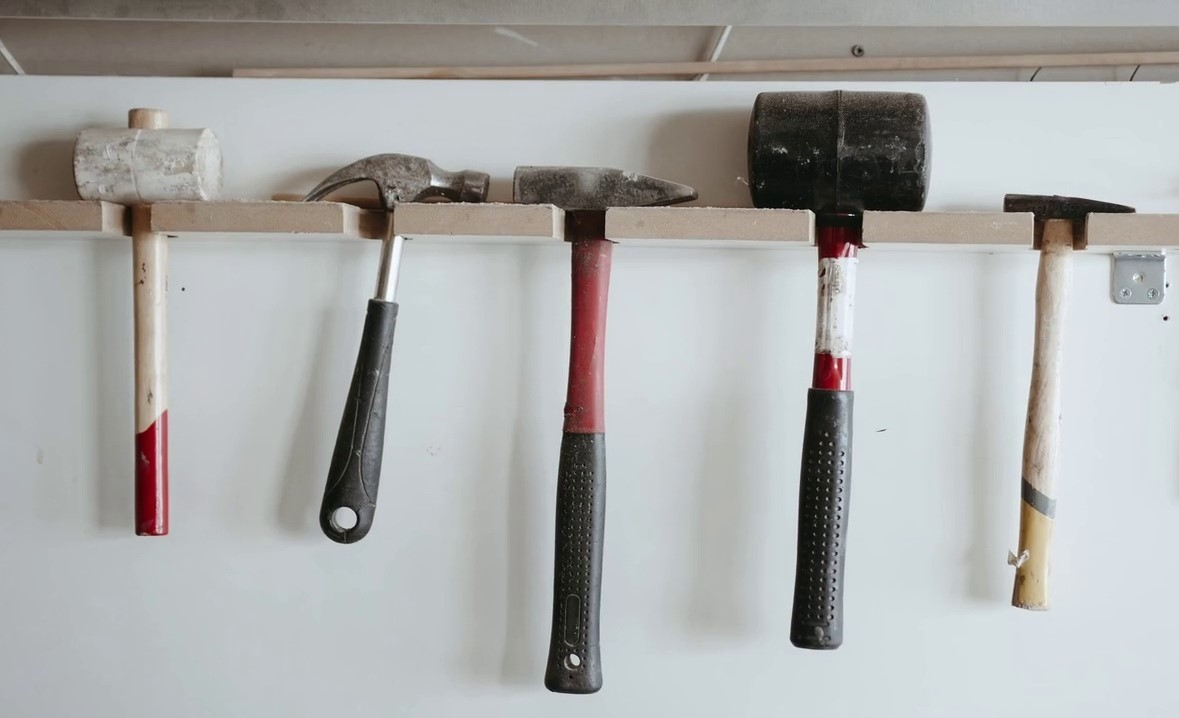hammer: (744, 87, 936, 652), (507, 161, 702, 691), (297, 150, 494, 551), (71, 104, 226, 542), (999, 190, 1136, 616)
